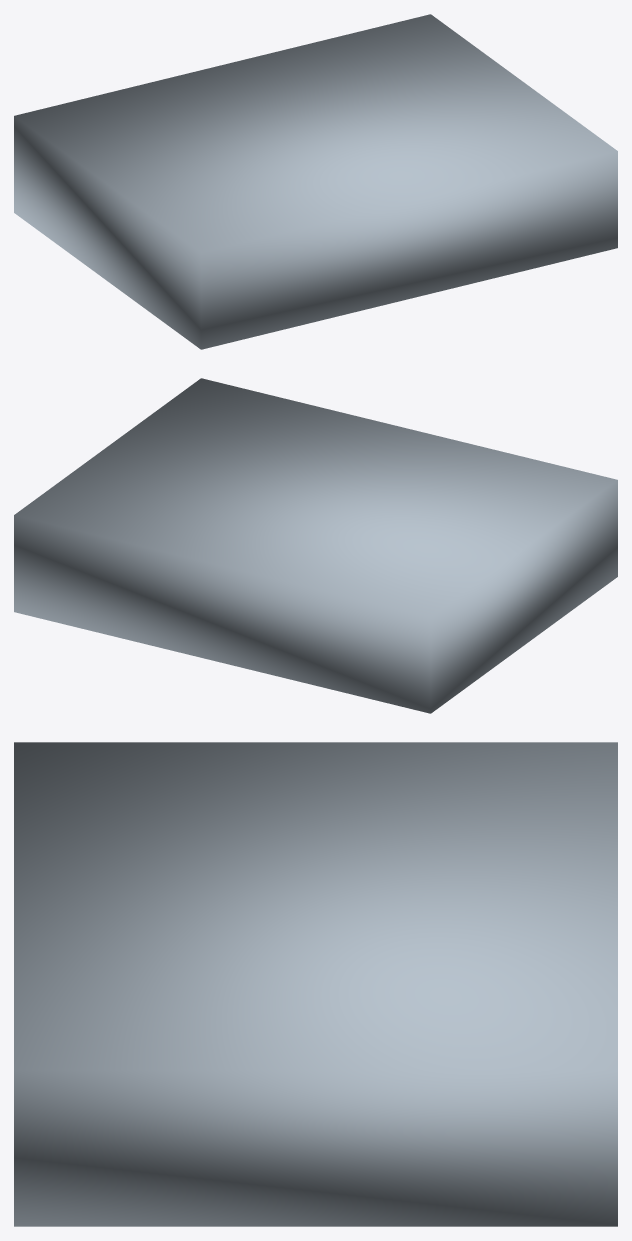
3 renders of one model, top to bottom at view 1: azimuth 30°, elevation 25°; view 2: azimuth 150°, elevation 25°; view 3: azimuth 270°, elevation 25°, orthographic. The views are drawn at different scales.
Visible parts, largest first — view 1: L105_Y2_silver; view 2: L105_Y2_silver; view 3: L105_Y2_silver.
Boxes of the visible parts, x1,y1,x2,y2 form: L105_Y2_silver: [14, 14, 617, 349]; L105_Y2_silver: [14, 378, 617, 713]; L105_Y2_silver: [14, 742, 617, 1226].
Bounding box in the file's own units: 0.009 × 0.002 × 0.007.
